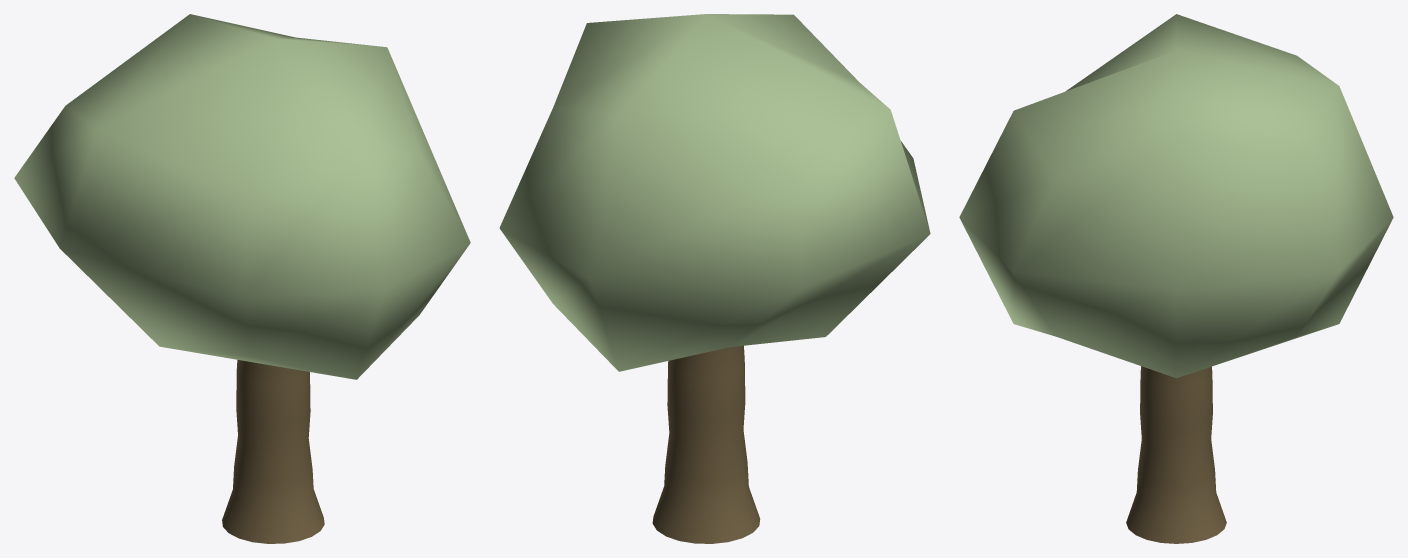
Rendered from tree1.fbx.
3 views of the same model, side by side, from view 1: azimuth 30°, elevation 25°; view 2: azimuth 150°, elevation 25°; view 3: azimuth 270°, elevation 25° (orthographic). The views are drawn at different scales.
Visible parts, largest first — view 1: tree1Com; view 2: tree1Com; view 3: tree1Com.
Part boxes in pixels (x1,y1,x2,y2): tree1Com: [14, 14, 470, 543]; tree1Com: [499, 14, 930, 543]; tree1Com: [959, 14, 1393, 543].
Bounding box in the file's own units: 2.72 × 3.43 × 2.86.
